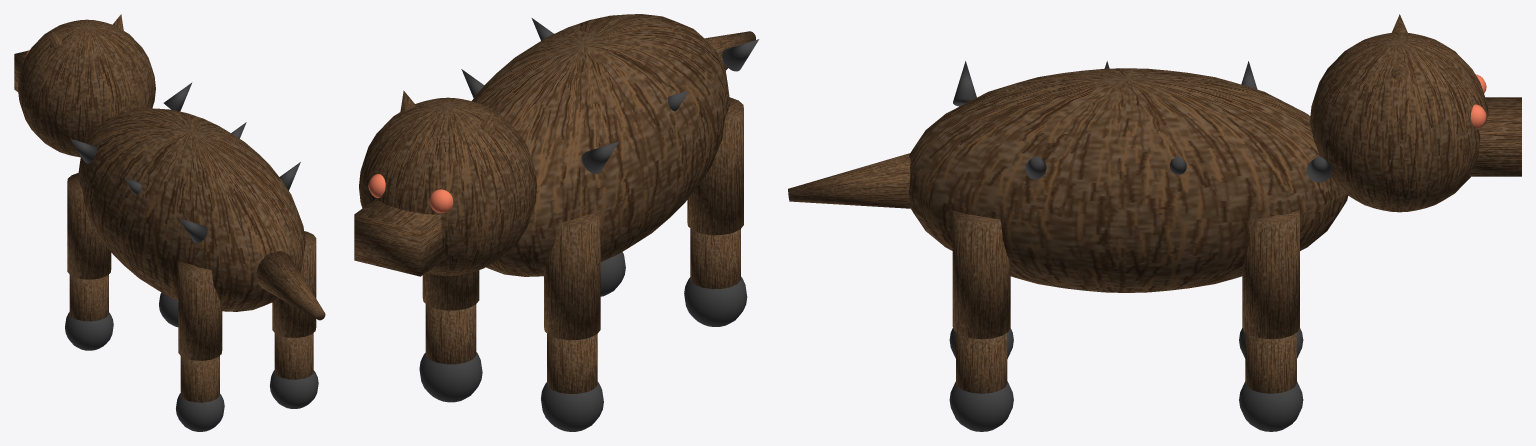
The model's file is thornhound.glb.
3 renders of one model, left to right at view 1: azimuth 30°, elevation 25°; view 2: azimuth 150°, elevation 25°; view 3: azimuth 270°, elevation 25°, orthographic. The views are drawn at different scales.
Visible parts, largest first — view 1: Body, Head, LegUpper, LegUpper.001, Tail, LegUpper.002, LegLower.001, LegLower, LegLower.002, Paw.002, Paw, Paw.001 (+5 smaller); view 2: Body, Head, LegUpper.001, Snout, LegUpper, LegLower.003, LegLower, LegLower.001, Paw.003, Paw.001, Paw, LegUpper.003 (+5 smaller); view 3: Body, Head, LegUpper.002, LegUpper.003, Tail, Snout, LegLower.002, LegLower.003, Paw.002, Paw.003.
Part boxes in pixels (left/top/right/bottom): Body: left=78, top=108, right=305, bottom=311; Head: left=18, top=19, right=155, bottom=157; LegUpper: left=178, top=260, right=222, bottom=360; LegUpper.001: left=67, top=173, right=111, bottom=279; Tail: left=257, top=251, right=325, bottom=320; LegUpper.002: left=272, top=231, right=316, bottom=337; LegLower.001: left=69, top=274, right=108, bottom=321; LegLower: left=180, top=356, right=219, bottom=402; LegLower.002: left=274, top=333, right=313, bottom=379; Paw.002: left=270, top=370, right=318, bottom=408; Paw: left=176, top=393, right=224, bottom=431; Paw.001: left=65, top=312, right=113, bottom=350; Body: left=472, top=14, right=730, bottom=276; Head: left=359, top=97, right=536, bottom=275; LegUpper.001: left=544, top=210, right=600, bottom=339; Snout: left=354, top=199, right=446, bottom=276; LegUpper: left=687, top=97, right=743, bottom=235; LegLower.003: left=425, top=304, right=476, bottom=364; LegLower: left=690, top=228, right=740, bottom=289; LegLower.001: left=547, top=333, right=597, bottom=393; Paw.003: left=419, top=352, right=482, bottom=402; Paw.001: left=541, top=382, right=603, bottom=431; Paw: left=684, top=277, right=747, bottom=326; LegUpper.003: left=422, top=270, right=479, bottom=310; Body: left=908, top=68, right=1347, bottom=292; Head: left=1310, top=32, right=1488, bottom=212; LegUpper.002: left=952, top=210, right=1010, bottom=339; LegUpper.003: left=1242, top=210, right=1299, bottom=339; Tail: left=788, top=153, right=910, bottom=208; Snout: left=1469, top=97, right=1521, bottom=176; LegLower.002: left=956, top=332, right=1007, bottom=393; LegLower.003: left=1245, top=332, right=1296, bottom=393; Paw.002: left=949, top=381, right=1013, bottom=431; Paw.003: left=1239, top=381, right=1303, bottom=431.
Bounding box in the file's own units: 0.5539 × 0.986 × 1.8.
3 materials, 1 textured.
